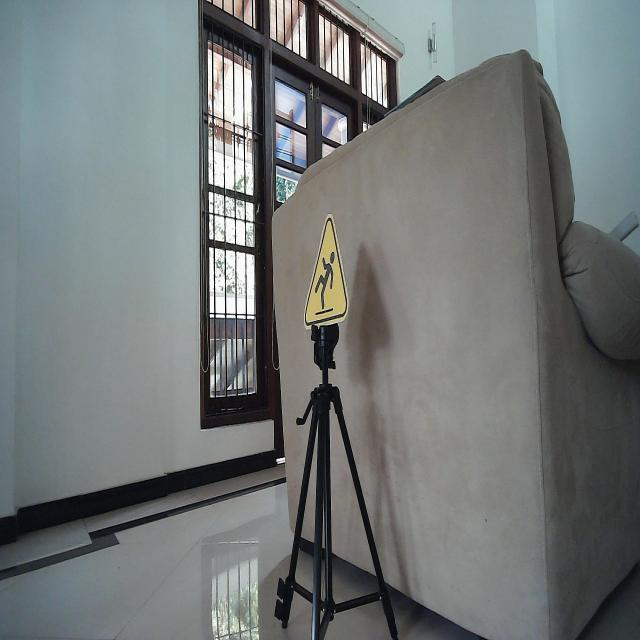slippery_sign: (302, 211, 350, 330)
